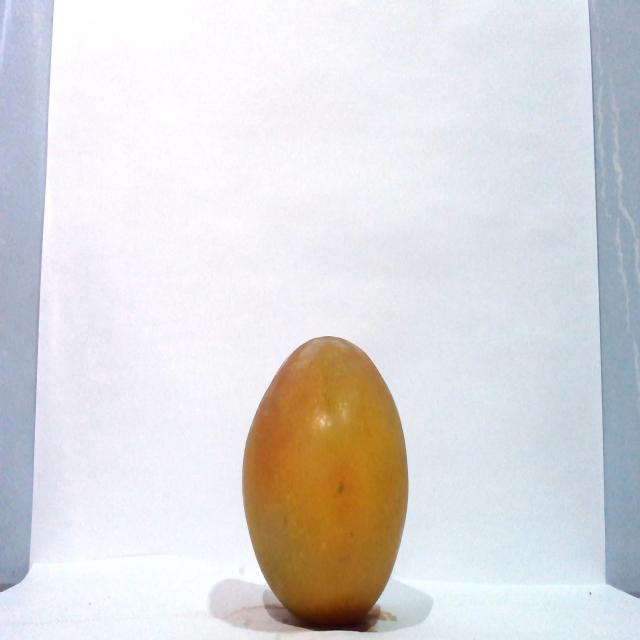Red: (240, 333, 410, 627)
